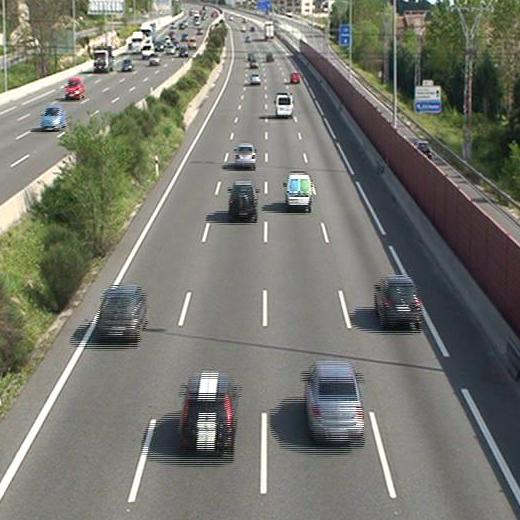car: (303, 364, 365, 440), (178, 375, 238, 452), (98, 285, 147, 339), (373, 276, 423, 327), (229, 181, 257, 219), (233, 144, 255, 166), (290, 69, 302, 84), (250, 73, 260, 82)
van: (284, 173, 313, 208), (273, 92, 294, 116)
